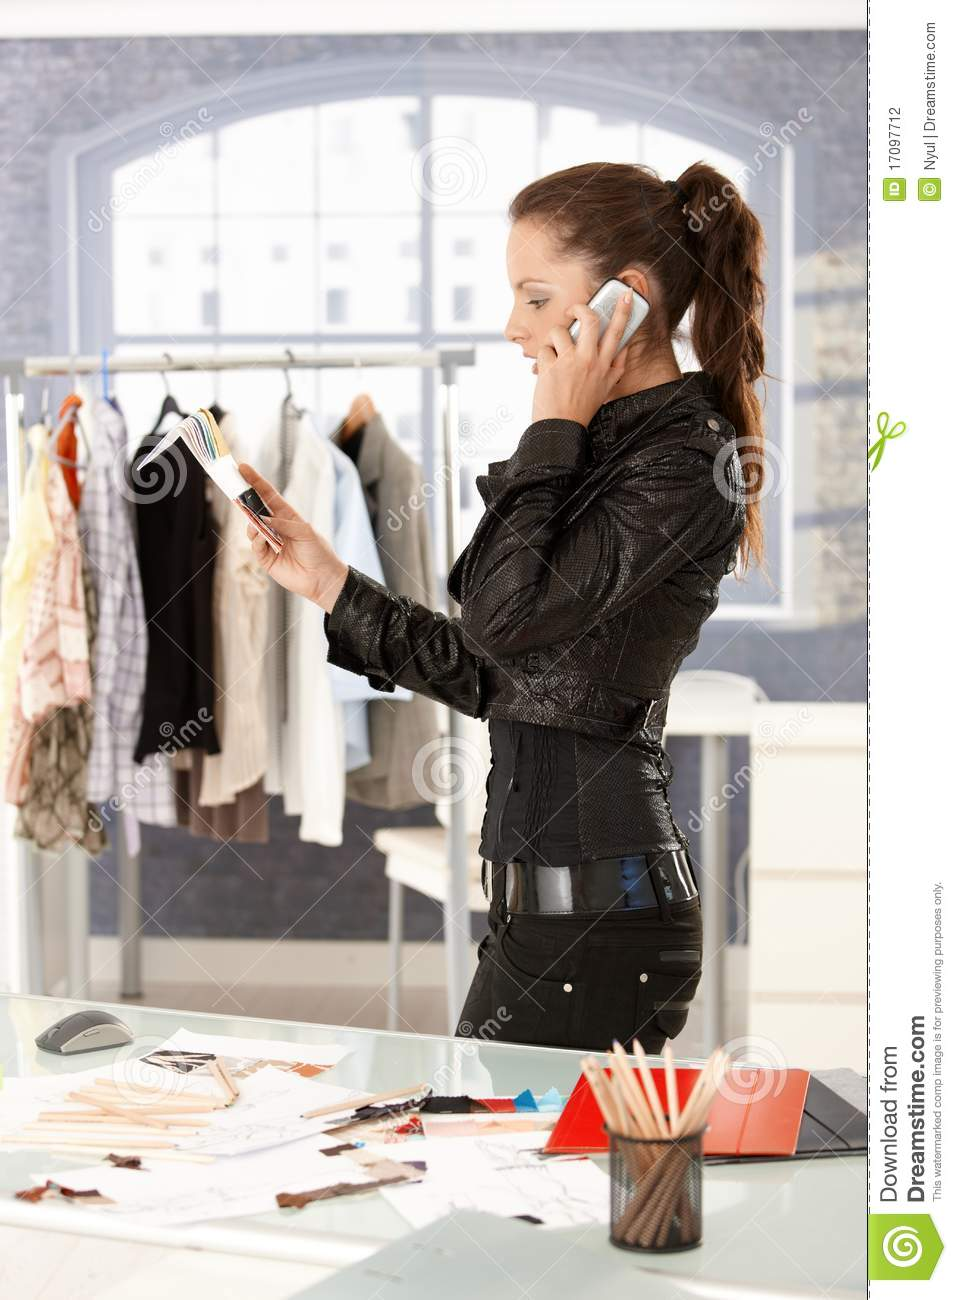phone: (574, 288, 649, 369)
talk: (505, 272, 653, 429)
